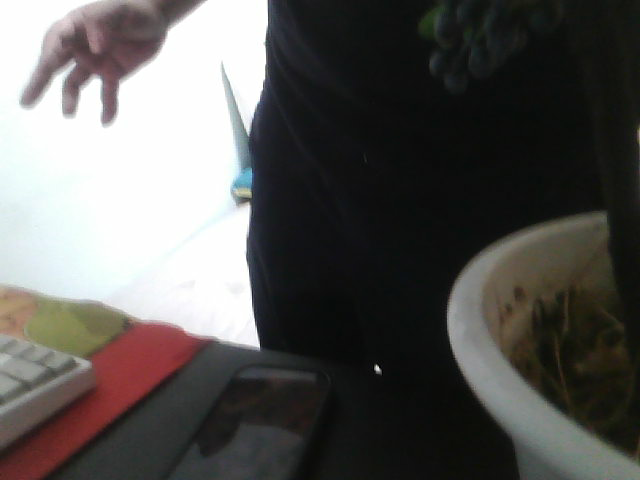blueberry: (582, 310, 629, 361)
